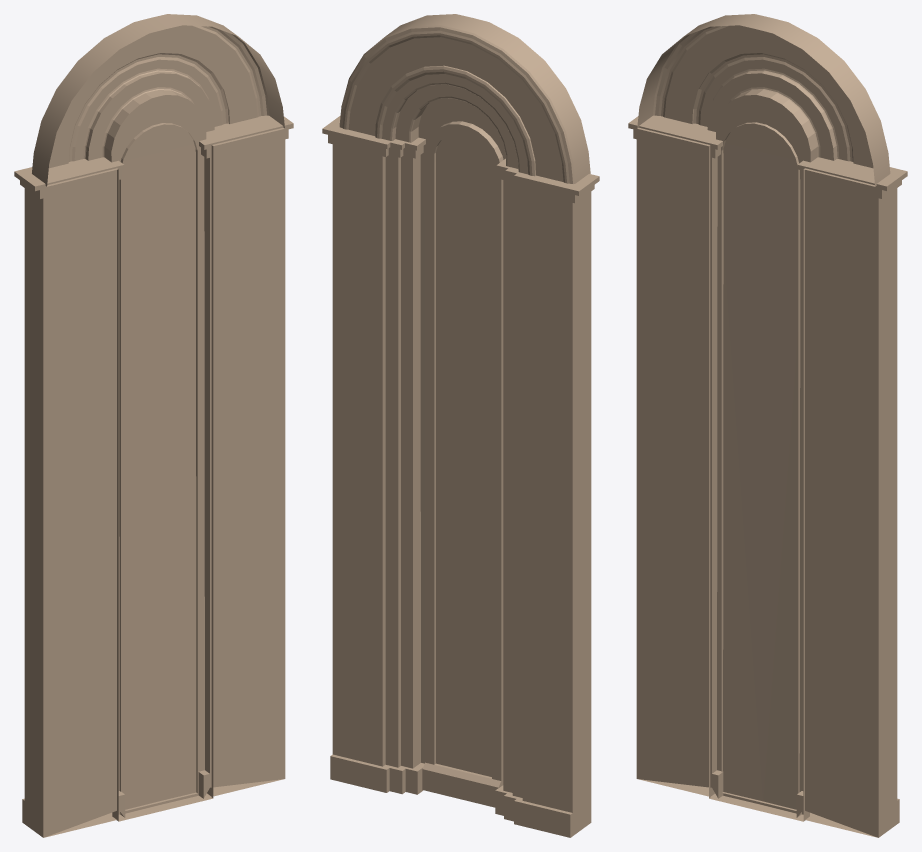
The model's file is BC_ArcWindow_B.fbx.
3 renders of one model, left to right at view 1: azimuth 30°, elevation 25°; view 2: azimuth 150°, elevation 25°; view 3: azimuth 330°, elevation 25°, orthographic.
Parts seen in each view (by area): view 1: BC_ArcWindow_B; view 2: BC_ArcWindow_B; view 3: BC_ArcWindow_B.
Part boxes in pixels (x1,y1,x2,y2): BC_ArcWindow_B: [14, 14, 293, 837]; BC_ArcWindow_B: [322, 14, 599, 837]; BC_ArcWindow_B: [628, 14, 907, 837].
Bounding box in the file's own units: 532 × 1533 × 80.25.
